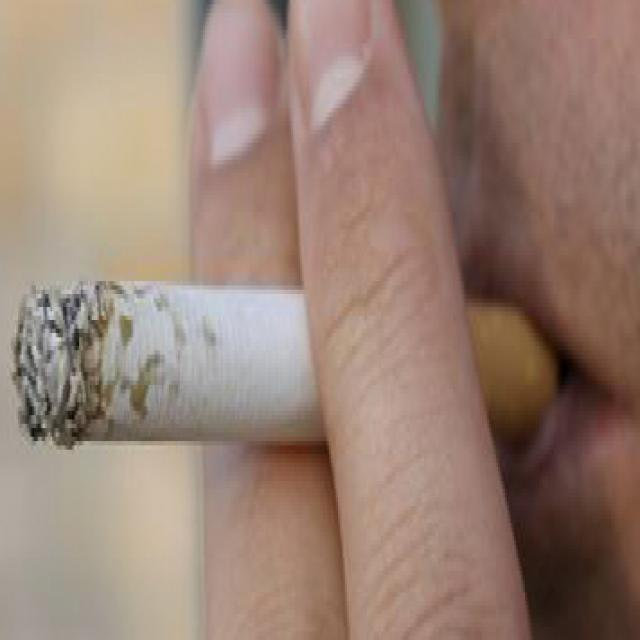smoking: (12, 285, 556, 448)
